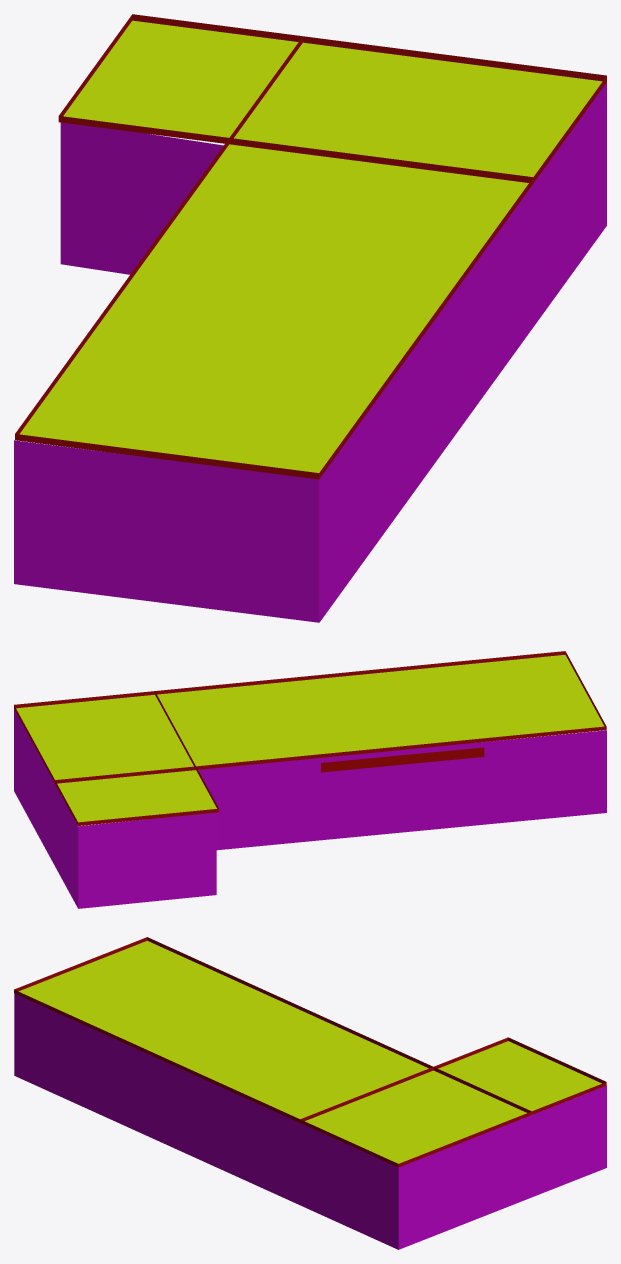
3 views of the same model, one above another, from view 1: azimuth 30°, elevation 25°; view 2: azimuth 150°, elevation 25°; view 3: azimuth 270°, elevation 25° (orthographic). The views are drawn at different scales.
Visible parts, largest first — view 1: sc_27; view 2: sc_27; view 3: sc_27.
Boxes of the visible parts, x1,y1,x2,y2 form: sc_27: (14,14,606,622); sc_27: (14,651,606,908); sc_27: (14,937,606,1249).
Size of the model in its own units: 46.18 by 8.16 by 50.95.
